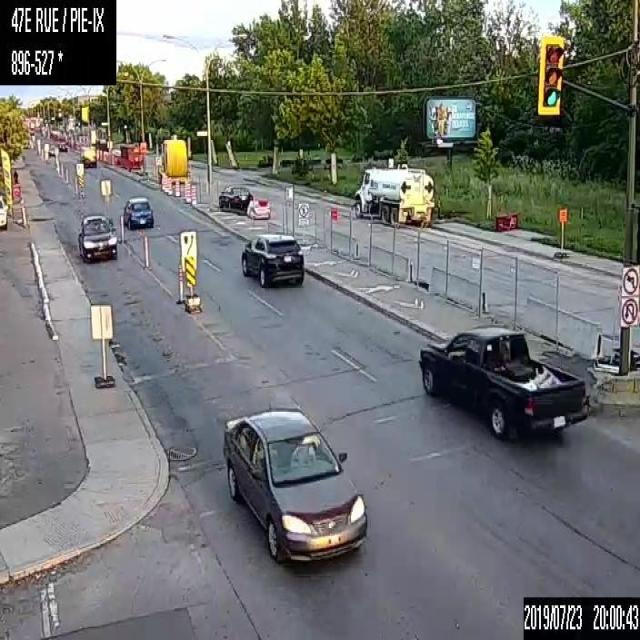construction: (176, 260, 183, 304), (143, 235, 150, 269), (118, 213, 125, 242), (184, 181, 190, 202), (174, 177, 180, 195), (191, 183, 196, 204), (167, 175, 171, 194), (162, 172, 166, 191), (99, 150, 102, 159)
vehicle: (222, 404, 368, 565), (417, 323, 590, 440), (354, 156, 436, 227), (239, 230, 304, 286), (78, 212, 118, 261), (218, 184, 270, 219), (122, 193, 153, 228), (78, 143, 98, 169), (58, 141, 68, 151)
